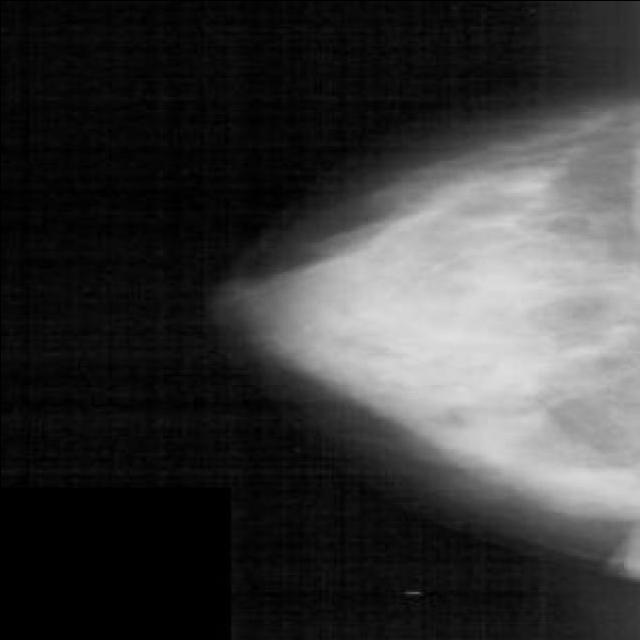tumor: (358, 206, 578, 432)
